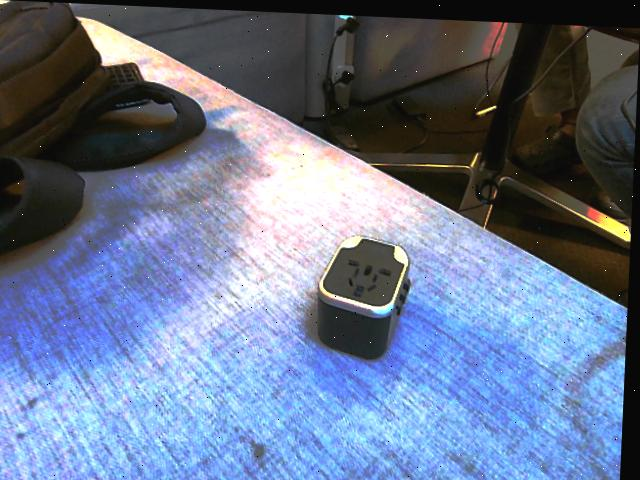adapter: (316, 229, 414, 357)
